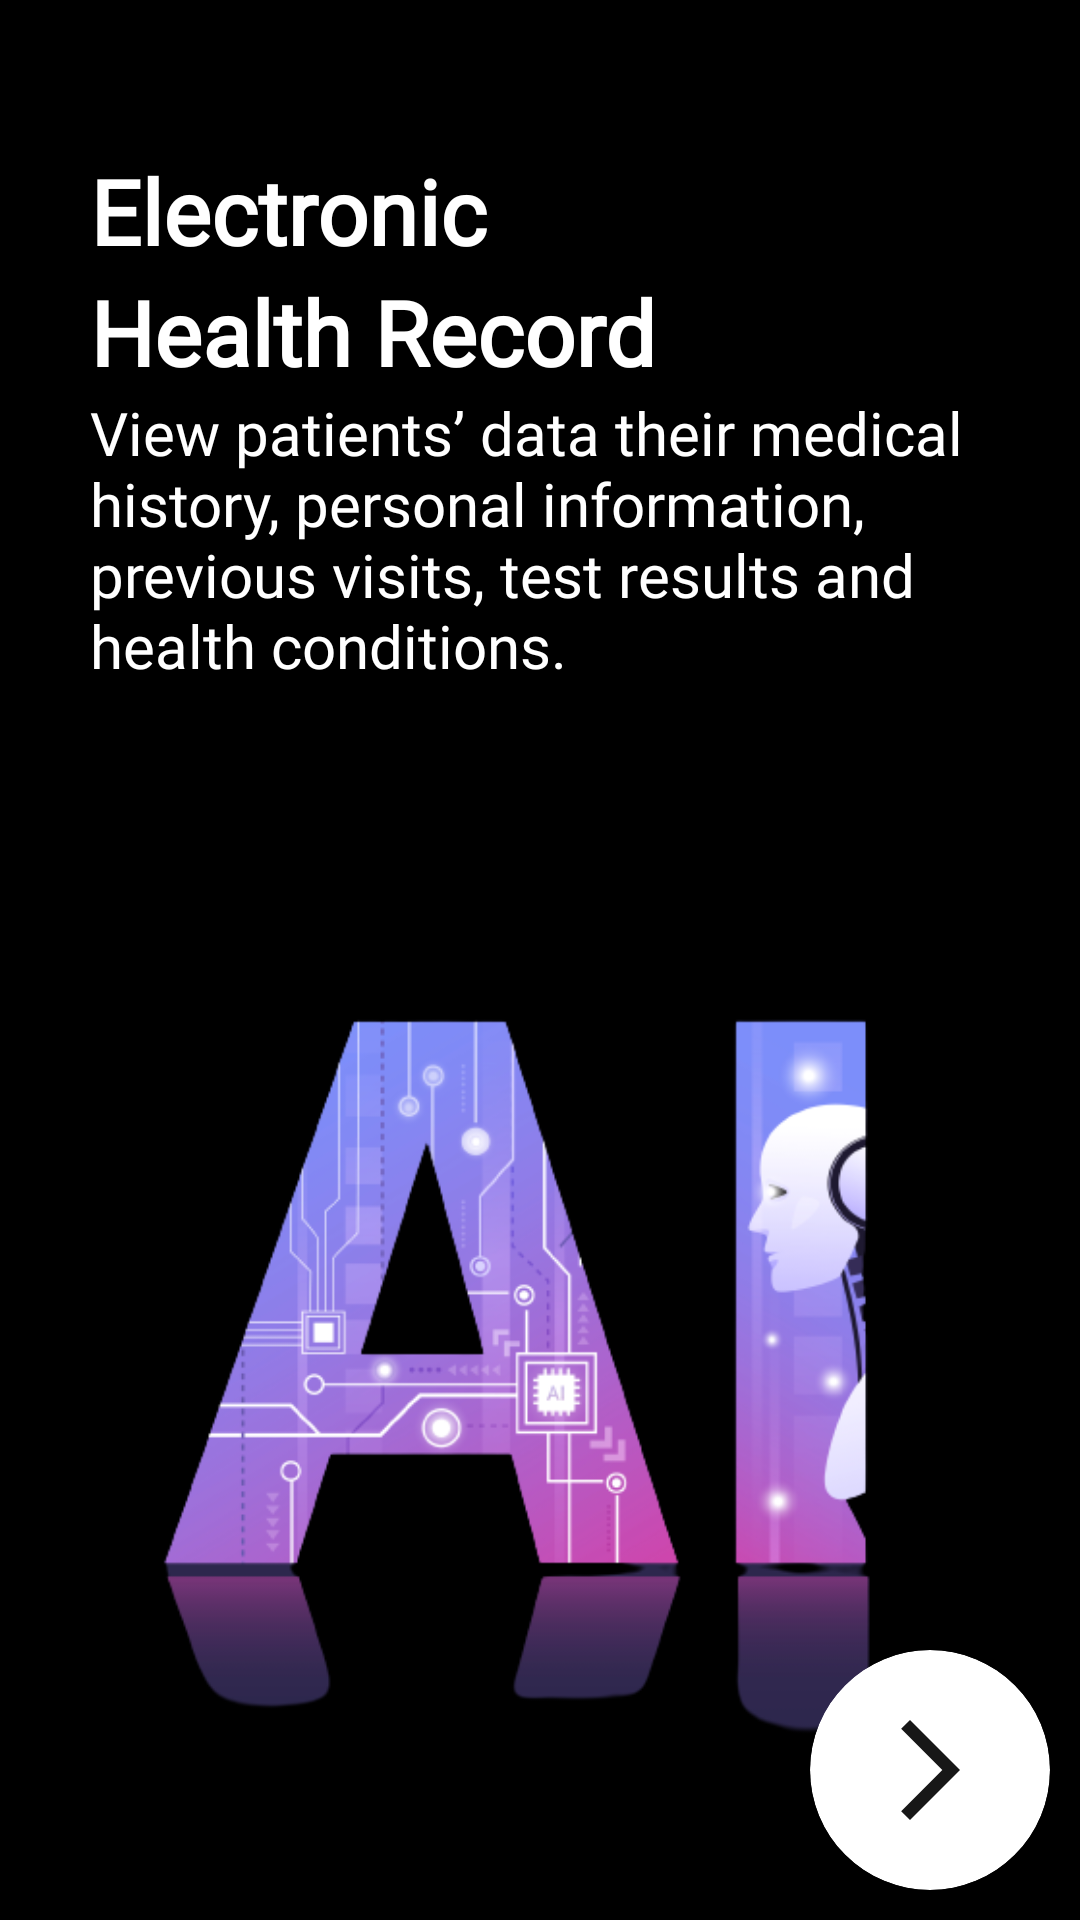

Locate icon controls on the screen. Image size 1080px×1920px, boxes as [left=x1, top=y1, right=x2, bottom=y2].
arrow: [left=810, top=1650, right=1050, bottom=1890]
